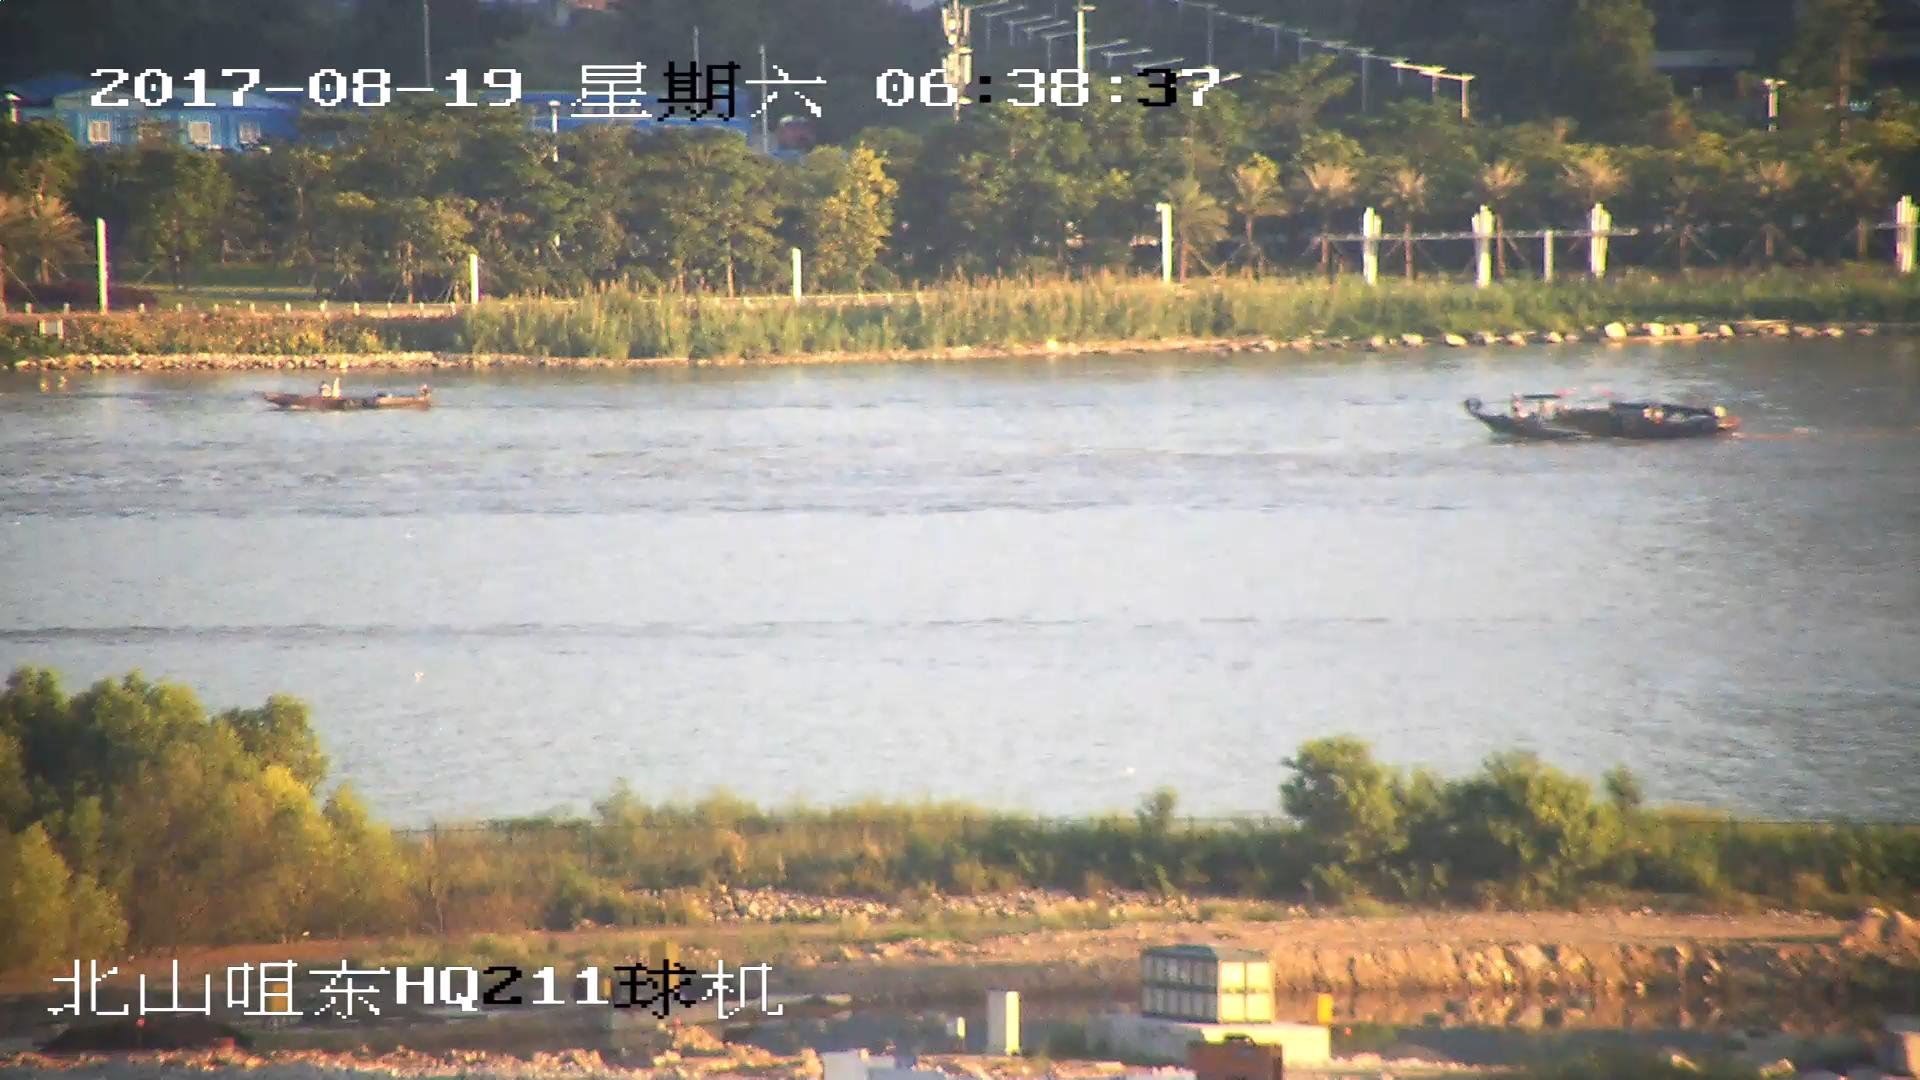fishing boat: (1463, 389, 1737, 441), (263, 379, 433, 416)
